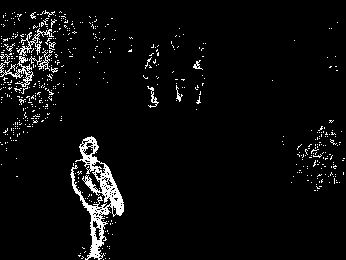person: (71, 134, 124, 260)
